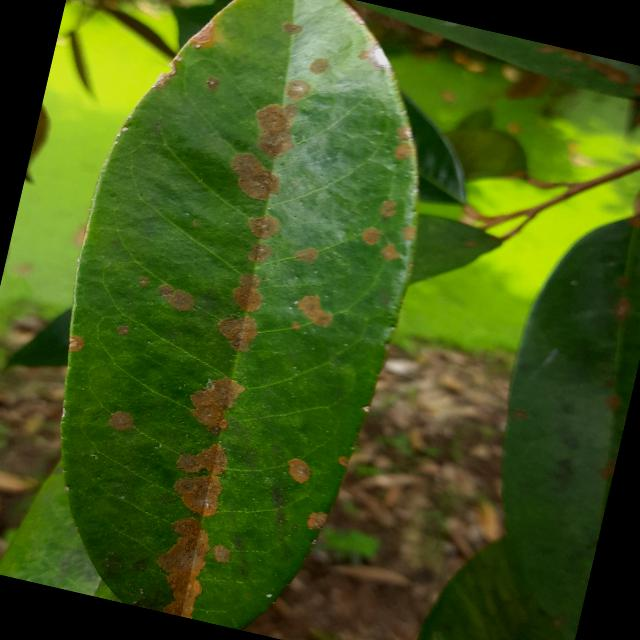Algal Leaf Spot: (0, 0, 478, 639)
